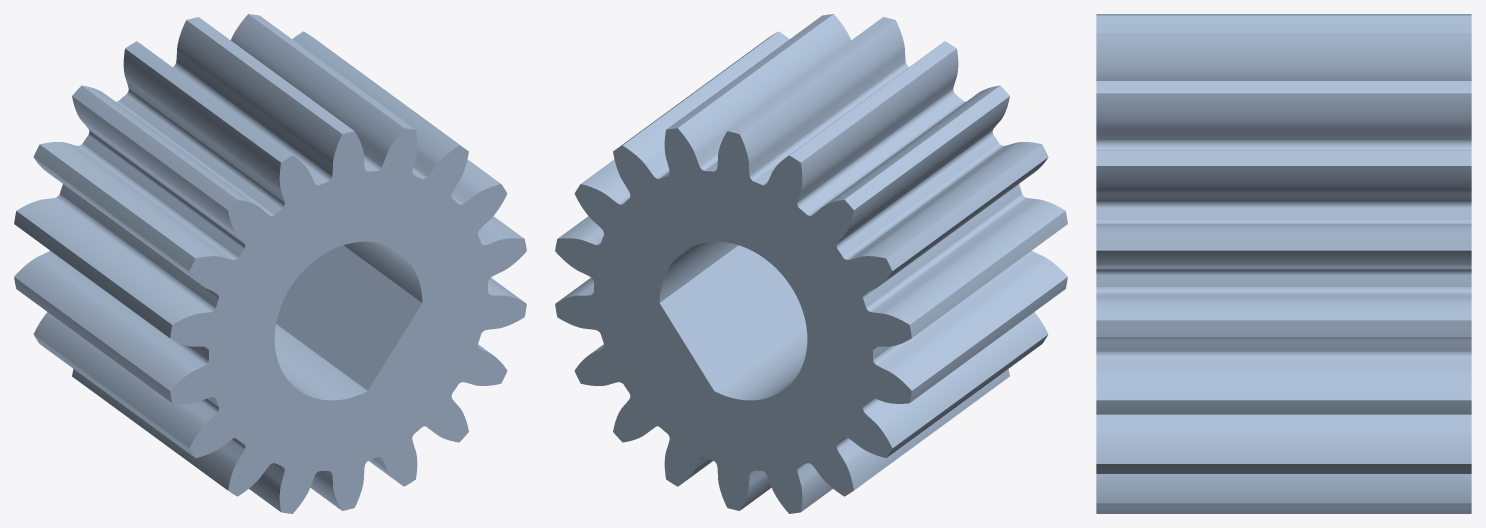
3 renders of one model, left to right at view 1: azimuth 30°, elevation 25°; view 2: azimuth 150°, elevation 25°; view 3: azimuth 270°, elevation 25°, orthographic. The views are drawn at different scales.
Parts seen in each view (by area): view 1: Part16; view 2: Part16; view 3: Part16.
Part boxes in pixels (x1=…): Part16: x1=14, y1=14, x2=526, y2=513; Part16: x1=555, y1=14, x2=1067, y2=513; Part16: x1=1096, y1=14, x2=1471, y2=513.
Size of the model in its own units: 19.8 by 20 by 15.
